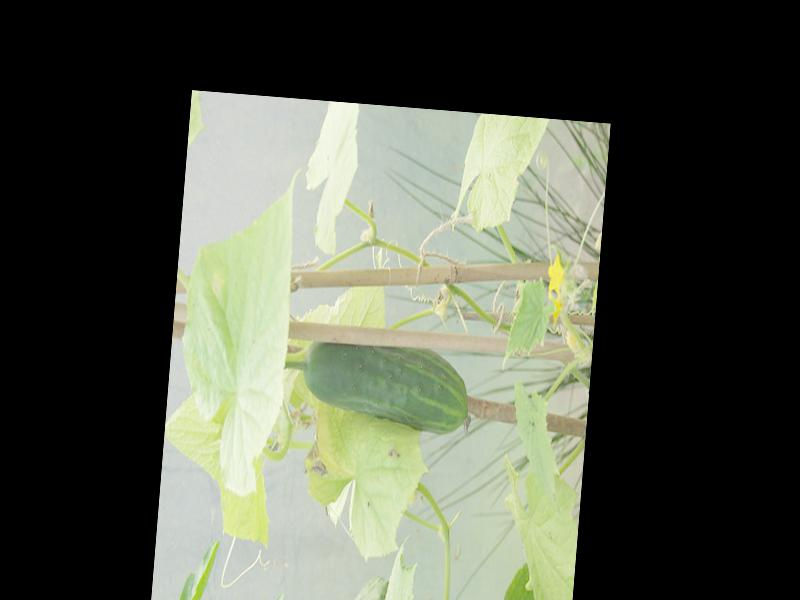Cucumber: (299, 338, 475, 438)
